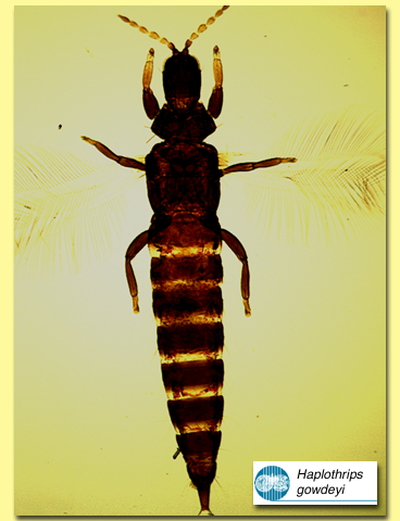Phlaeothripidae: (14, 1, 383, 515)
